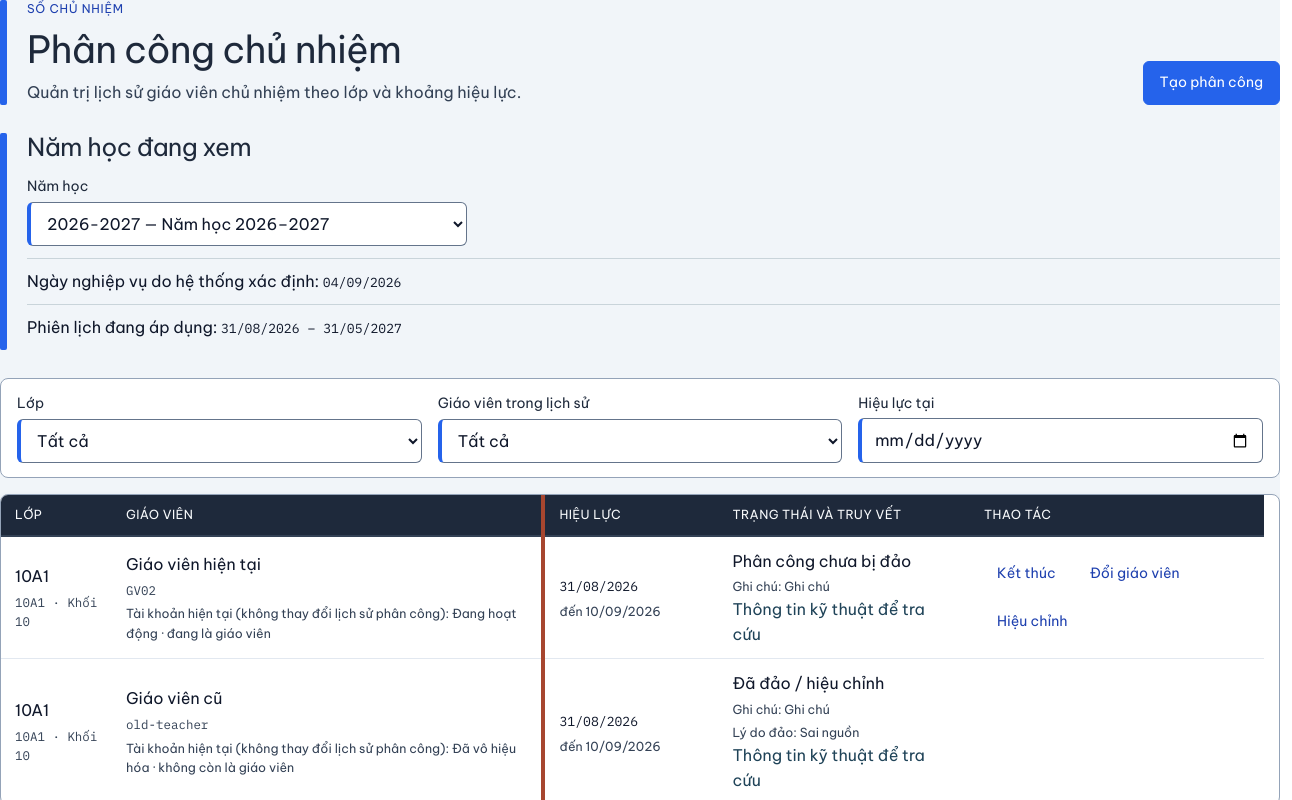
Test: Homeroom administration workspace › renders retained ACTIVE and REVERSED evidence with diagnostic current state
Expected: the text "Đã đảo / hiệu chỉnh" is shown, [732,673,884,693]
Expected: the text "Lý do đảo: Sai nguồn" is shown, [732,726,859,740]
Click the heading "Thông tin kỹ thuật để tra cứu" below "Lý do đảo:". click: click(844, 768)
box: [732,743,956,792]
(page scrolled)
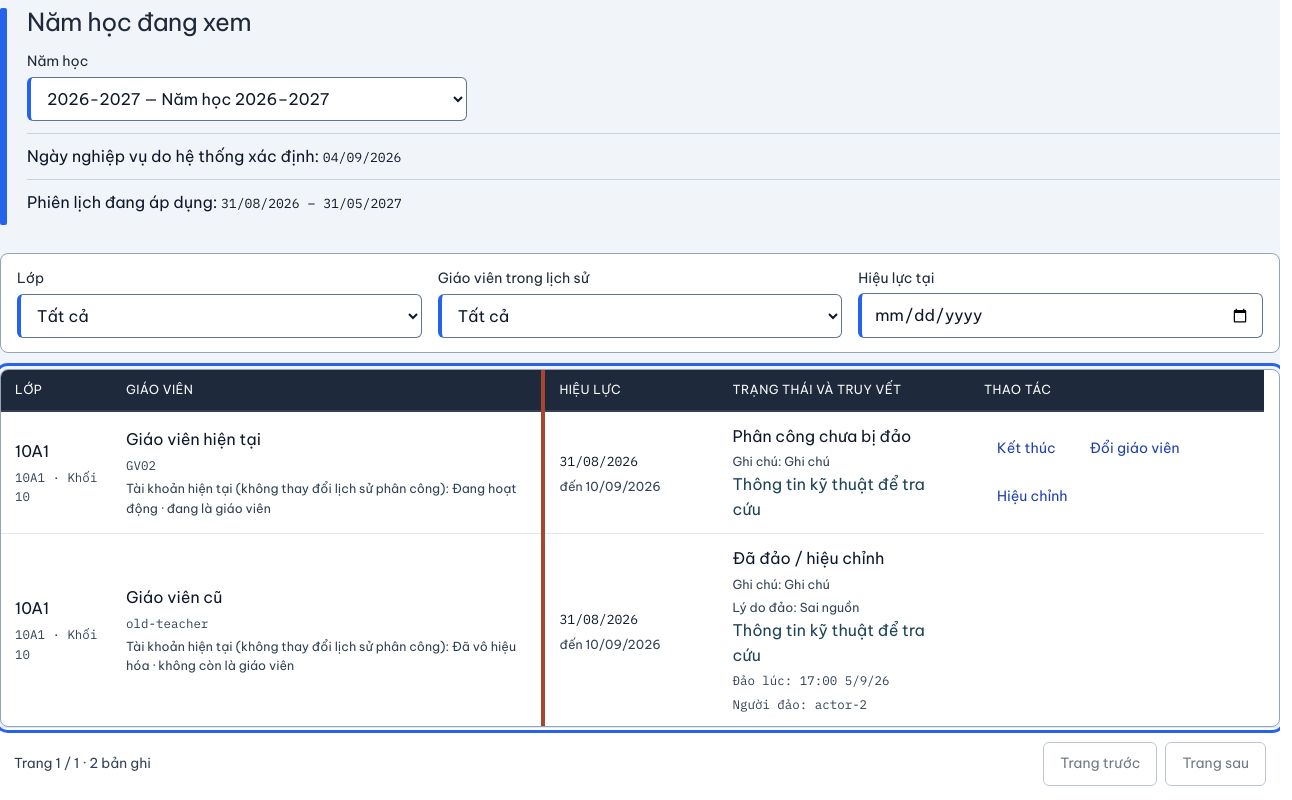
Expected: the text "Người đảo: actor-2" is shown, [732,696,867,712]
